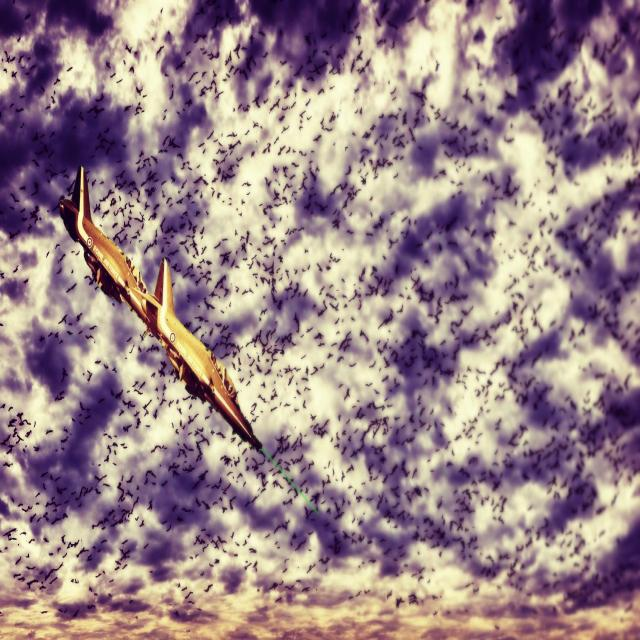airplane: (58, 164, 264, 452)
